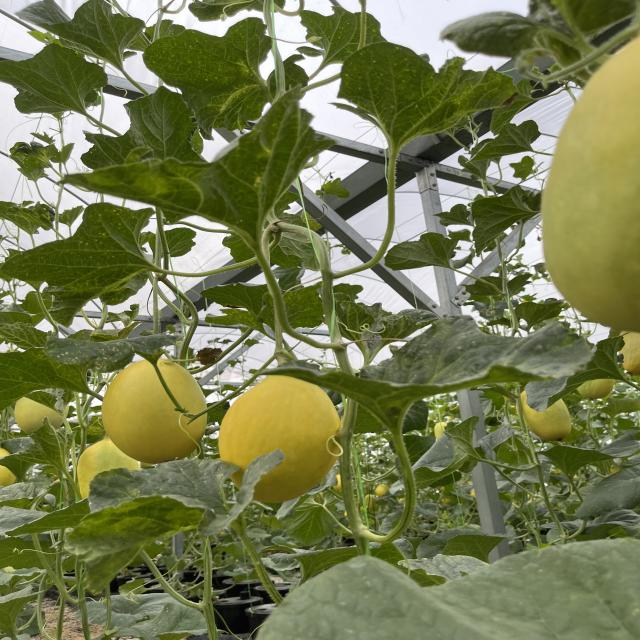SLCV: (336, 300, 432, 352)
downy mildew: (58, 451, 284, 568), (328, 41, 528, 161), (0, 201, 168, 319), (137, 17, 281, 148)
healthy: (0, 43, 110, 118), (19, 0, 148, 59)
